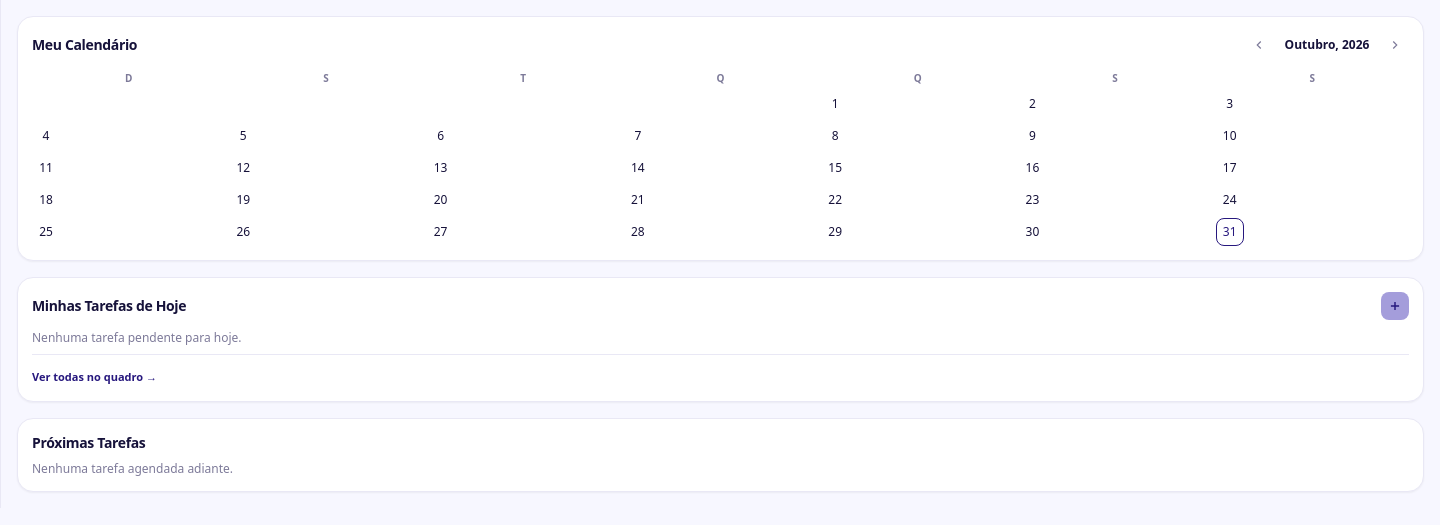
Test: PainelLateralDireito › permite navegar entre meses no mini calendário
Expected: the text "Outubro, 2026" is shown, [1285,36,1369,53]
Step 1. Click the button named "próximo mês no calendário" → (1395, 45), box [1381,31,1409,59]
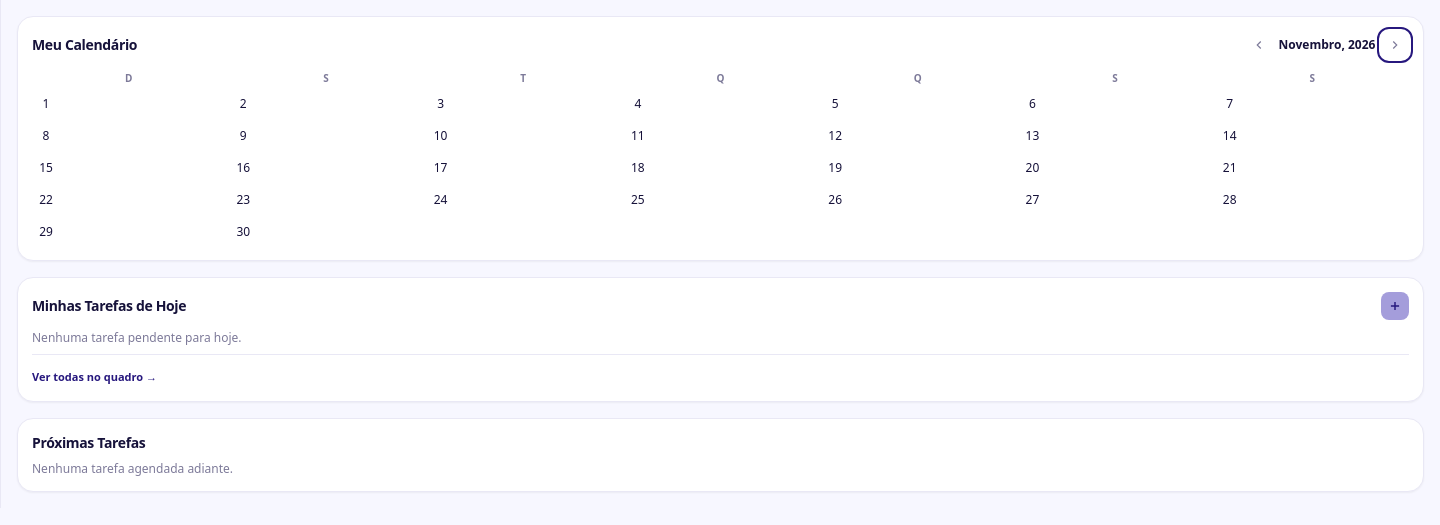
Expected: the text "Novembro, 2026" is shown, [1277,37,1377,53]
Step 2. Click the button named "mês anterior no calendário" → (1259, 45), box [1245,31,1273,59]
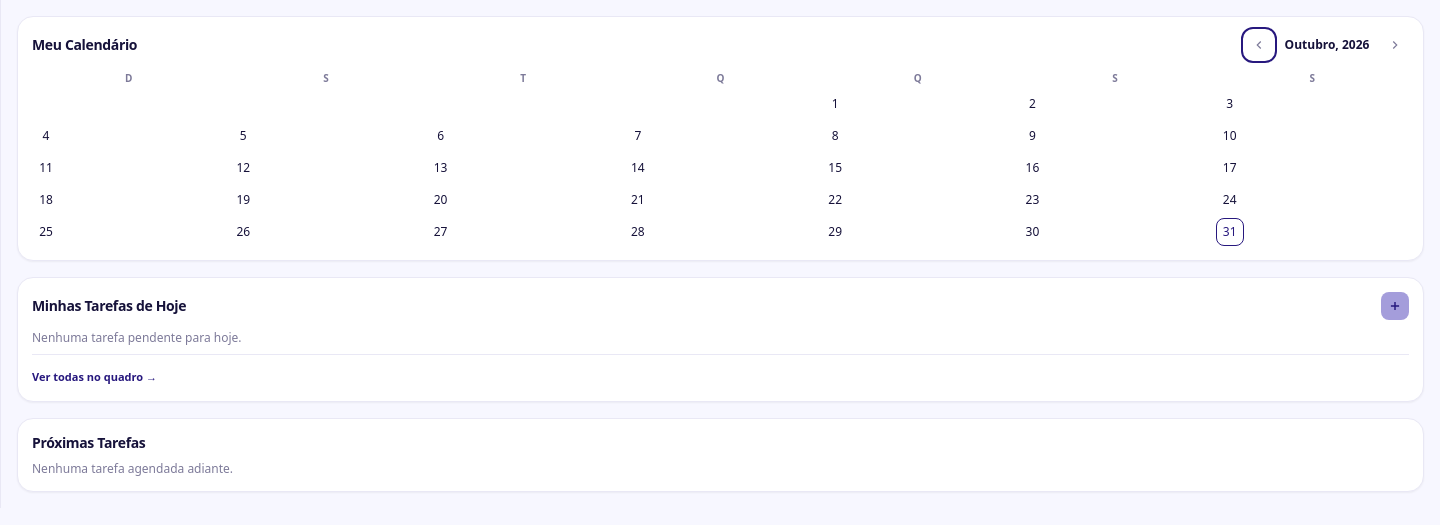
Expected: the text "Outubro, 2026" is shown, [1285,36,1369,53]
